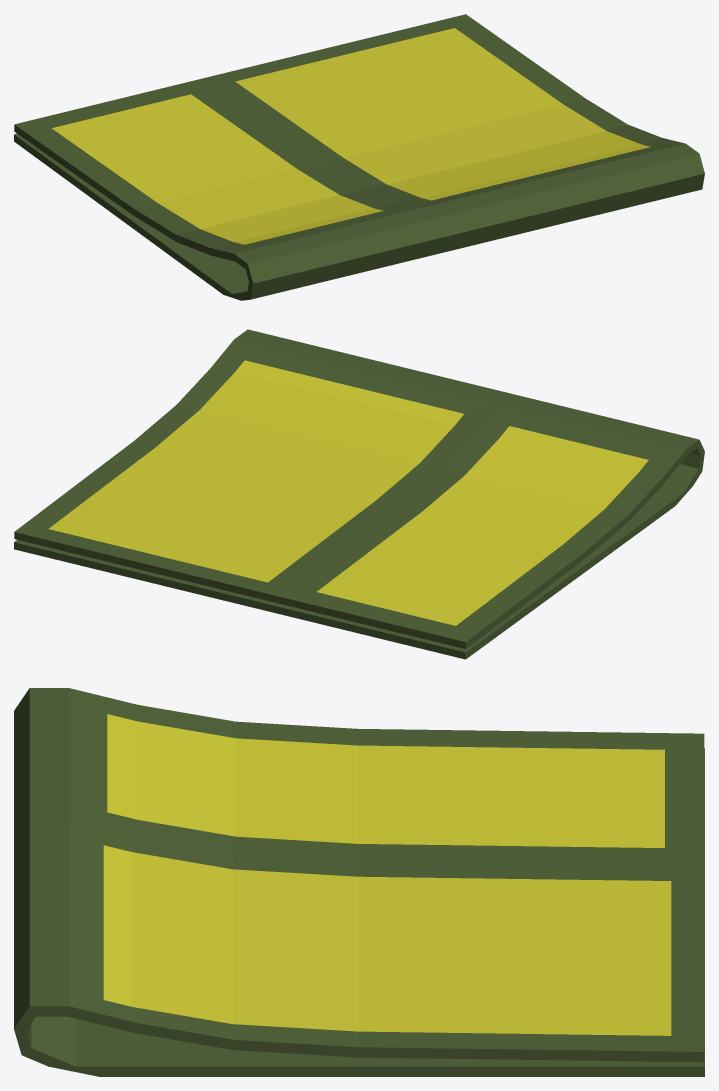
Rendered from Notebook.fbx.
3 views of the same model, one above another, from view 1: azimuth 30°, elevation 25°; view 2: azimuth 150°, elevation 25°; view 3: azimuth 270°, elevation 25° (orthographic). The views are drawn at different scales.
Parts seen in each view (by area): view 1: Plane.039; view 2: Plane.039; view 3: Plane.039.
Boxes of the visible parts, left/top/right/bottom form: Plane.039: left=14, top=14, right=704, bottom=300; Plane.039: left=14, top=329, right=704, bottom=659; Plane.039: left=14, top=688, right=704, bottom=1076.
Bounding box in the file's own units: 0.6624 × 0.6076 × 0.0684.
